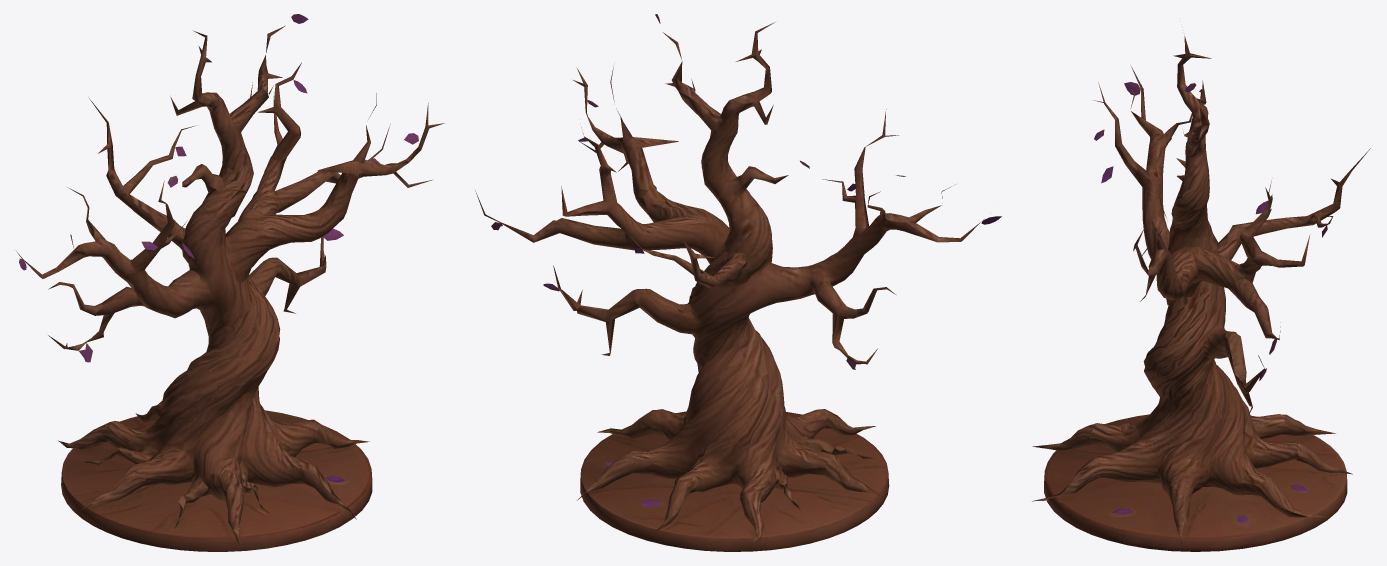
The model's file is mansion_arbol.glb.
The picture shows the model from 3 angles, left to right: view 1: azimuth 30°, elevation 25°; view 2: azimuth 150°, elevation 25°; view 3: azimuth 270°, elevation 25°; orthographic projection. The views are drawn at different scales.
Visible parts, largest first — view 1: tripo_node_cedc4a61-e49a-41d2-816a-5a903a50262f; view 2: tripo_node_cedc4a61-e49a-41d2-816a-5a903a50262f; view 3: tripo_node_cedc4a61-e49a-41d2-816a-5a903a50262f.
Part boxes in pixels (x1,y1,x2,y2): tripo_node_cedc4a61-e49a-41d2-816a-5a903a50262f: (16, 14, 444, 551); tripo_node_cedc4a61-e49a-41d2-816a-5a903a50262f: (475, 14, 1001, 551); tripo_node_cedc4a61-e49a-41d2-816a-5a903a50262f: (1032, 36, 1370, 551).
Bounding box in the file's own units: 0.9995 × 0.9888 × 0.6685.
1 material, 1 textured.
